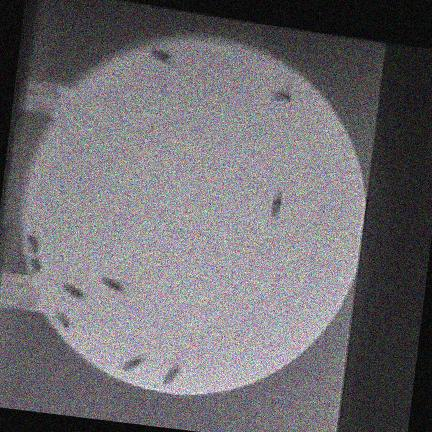fly: (123, 355, 145, 371), (64, 283, 85, 299), (103, 276, 124, 291), (152, 47, 171, 63), (164, 365, 180, 383), (271, 193, 282, 217), (57, 311, 71, 327), (274, 89, 292, 101), (28, 235, 39, 253), (29, 258, 42, 273)
